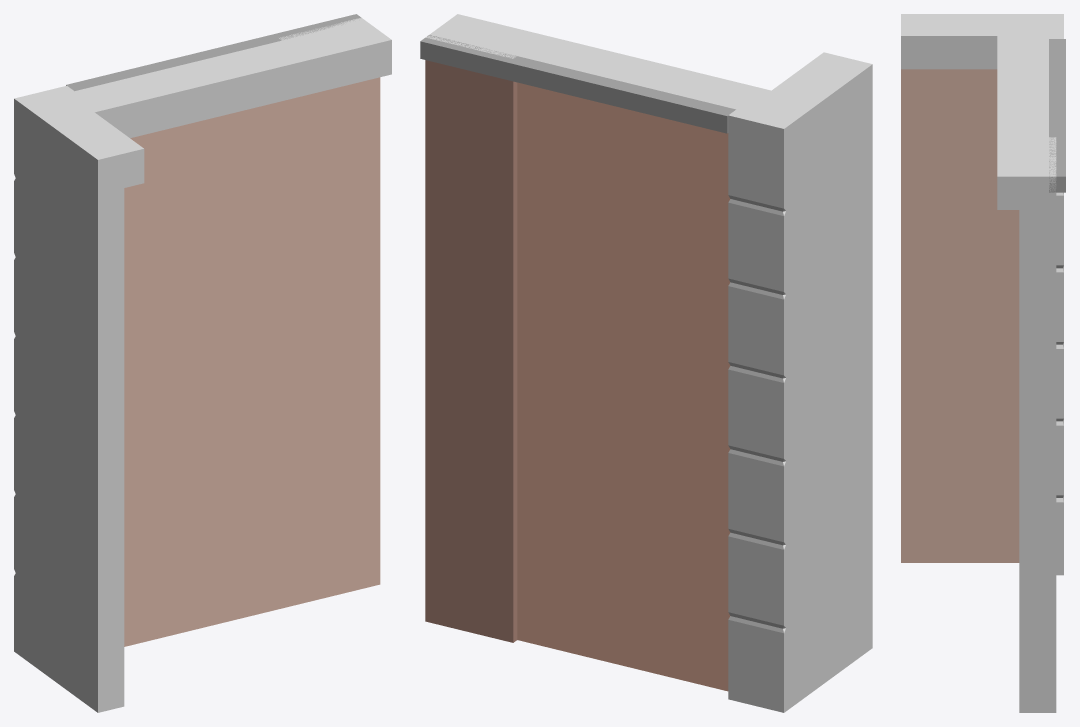
The model's file is EntranceWall_Top_Corner.fbx.
3 views of the same model, side by side, from view 1: azimuth 30°, elevation 25°; view 2: azimuth 150°, elevation 25°; view 3: azimuth 270°, elevation 25° (orthographic). The views are drawn at different scales.
Visible parts, largest first — view 1: EntranceWall_Top_Corner; view 2: EntranceWall_Top_Corner; view 3: EntranceWall_Top_Corner.
Boxes of the visible parts, x1,y1,x2,y2 form: EntranceWall_Top_Corner: [14, 14, 391, 712]; EntranceWall_Top_Corner: [420, 14, 872, 712]; EntranceWall_Top_Corner: [901, 14, 1065, 712].
Bounding box in the file's own units: 2.6 × 4 × 1.11.
